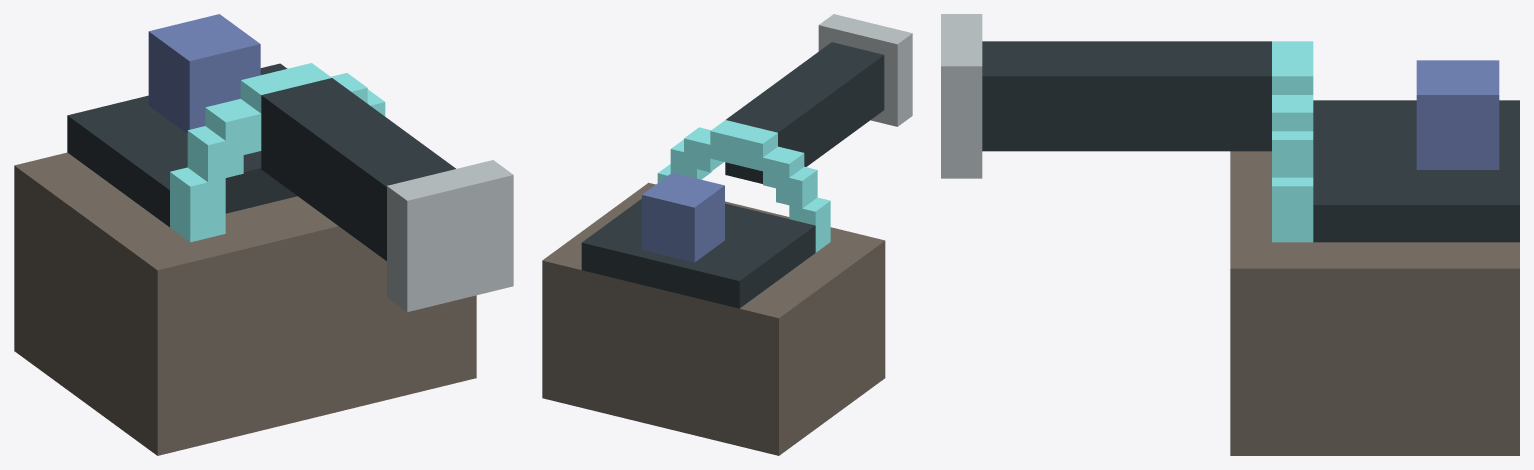
File: arc_thrower.glb
3 renders of one model, left to right at view 1: azimuth 30°, elevation 25°; view 2: azimuth 150°, elevation 25°; view 3: azimuth 270°, elevation 25°, orthographic. The views are drawn at different scales.
Parts seen in each view (by area): view 1: arc_thrower/housing, arc_thrower/shaft; view 2: arc_thrower/housing, arc_thrower/shaft; view 3: arc_thrower/housing, arc_thrower/shaft.
Part boxes in pixels (x1,y1,x2,y2): arc_thrower/housing: [14, 14, 476, 455]; arc_thrower/shaft: [261, 78, 513, 311]; arc_thrower/housing: [542, 120, 885, 455]; arc_thrower/shaft: [725, 14, 912, 183]; arc_thrower/housing: [1230, 41, 1519, 455]; arc_thrower/shaft: [941, 14, 1271, 178].
Size of the model in its own units: 0.5625 by 0.5625 by 0.875.
